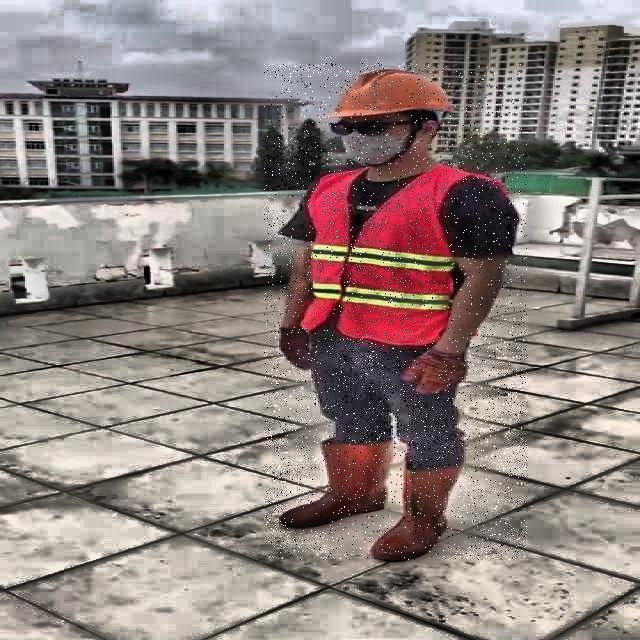safety_helmet: (324, 64, 450, 122)
safety_jacket: (302, 166, 466, 342)
